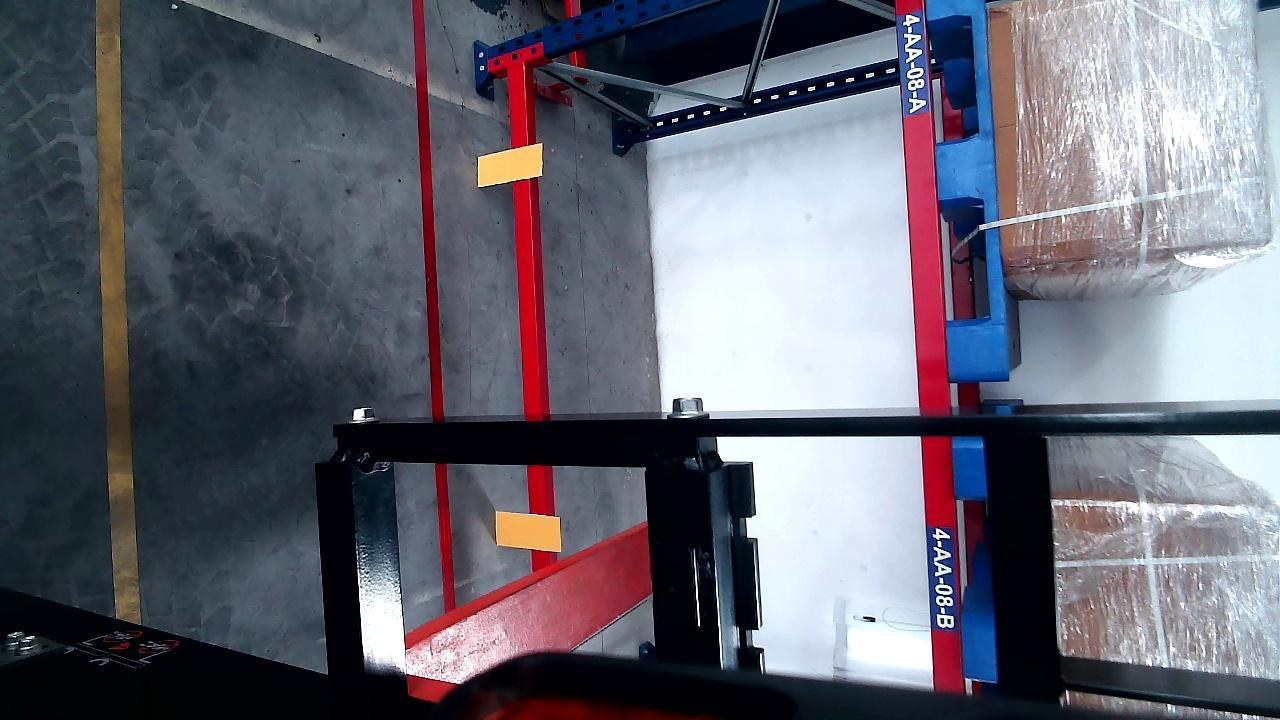red_line: (414, 0, 456, 618)
yellow_line: (94, 0, 140, 627)
